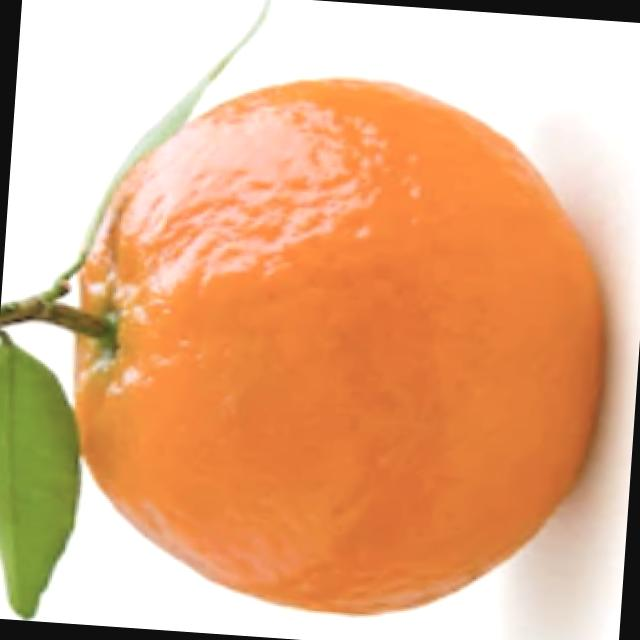orange: (46, 46, 624, 634)
